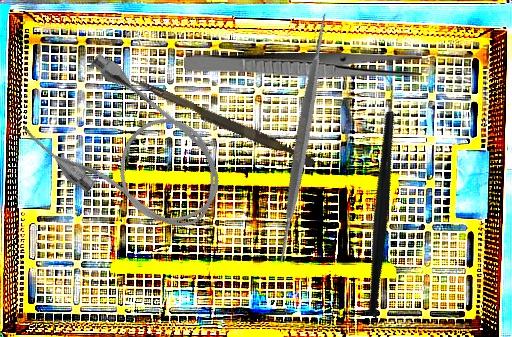Cannula: (14, 42, 245, 260)
Chopper: (284, 70, 472, 318)
Dressing Forceps: (184, 53, 422, 78)
Pusher: (127, 76, 317, 168)
Spatula Surgical: (173, 6, 434, 269)
